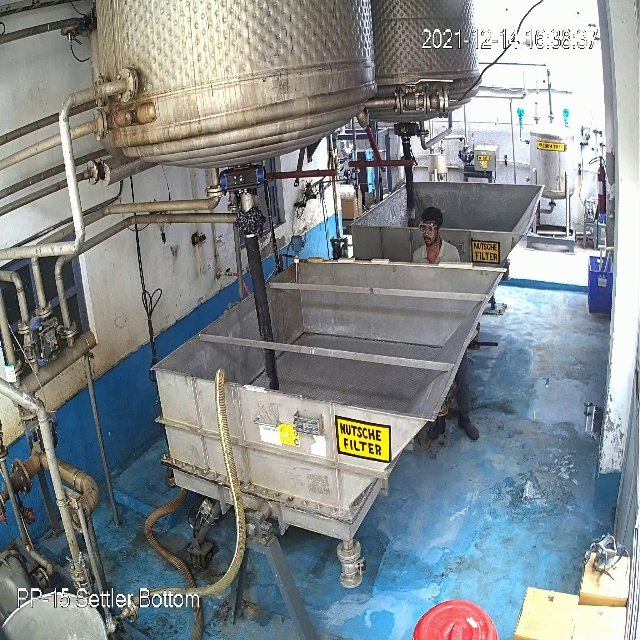Gafas: (418, 221, 438, 237)
Sin_mascara: (421, 230, 438, 248)
